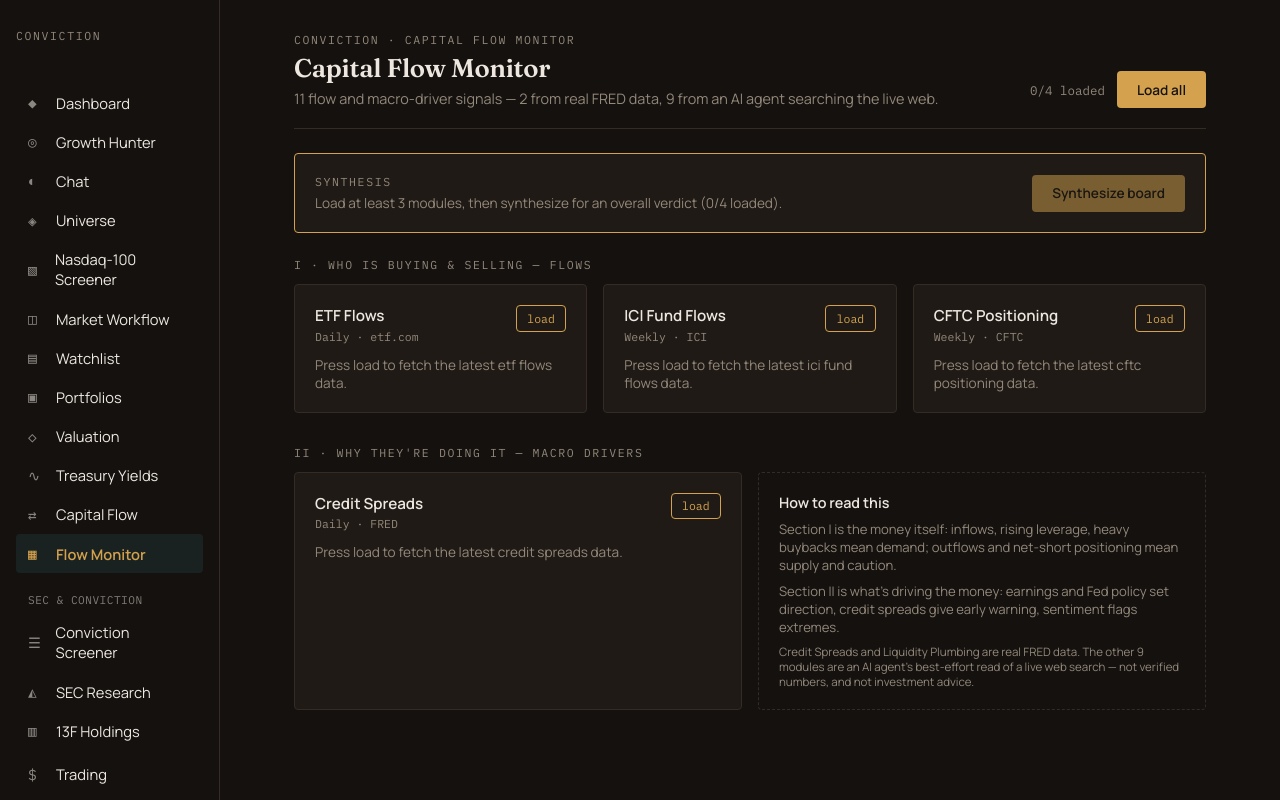
Capital Flow Monitor page › shows a real error and a retry option when a module load fails
This screenshot has width=1280, height=800.
Expected: the text "ETF Flows" is shown, [315,305,384,326]
Click the button "load" next to "etf.com": (541, 318) [516,305,566,332]
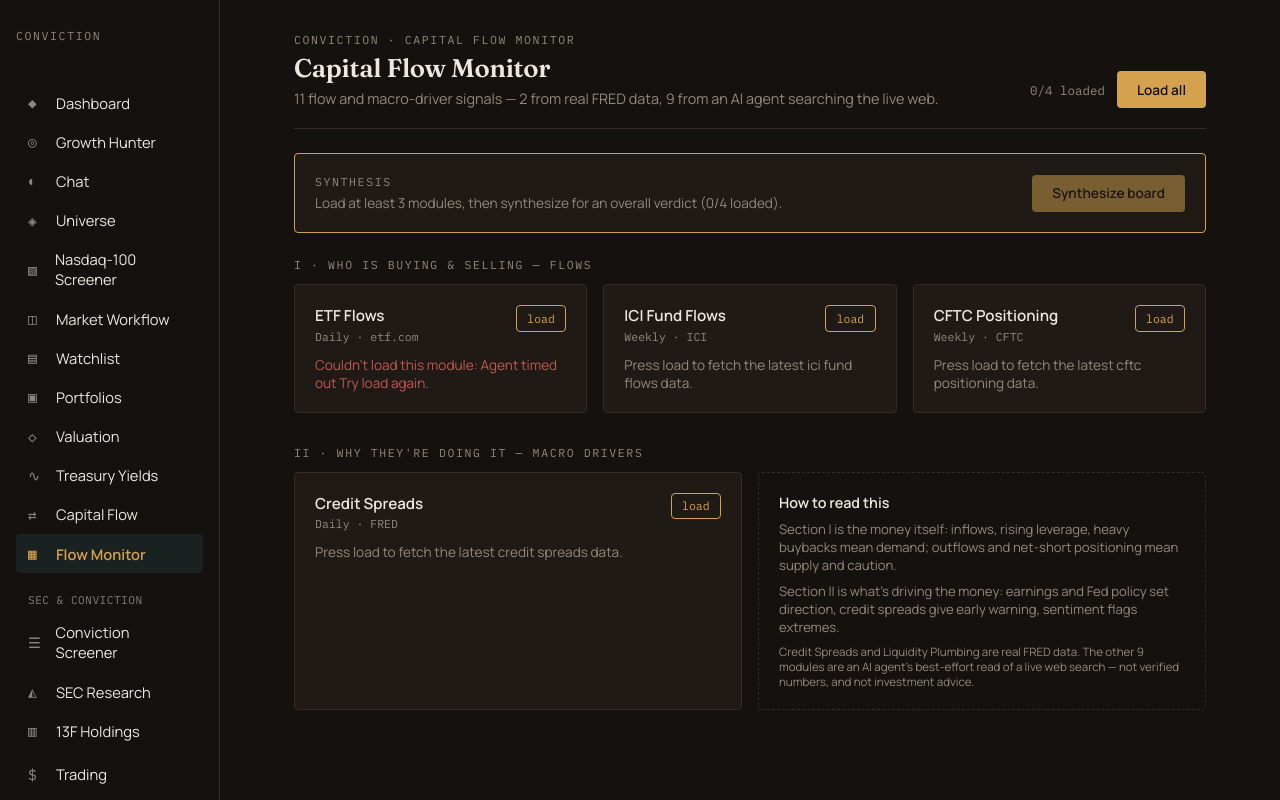
Expected: the text "Couldn't load this module: Agent timed out Try load again." is shown, [315,356,566,392]
